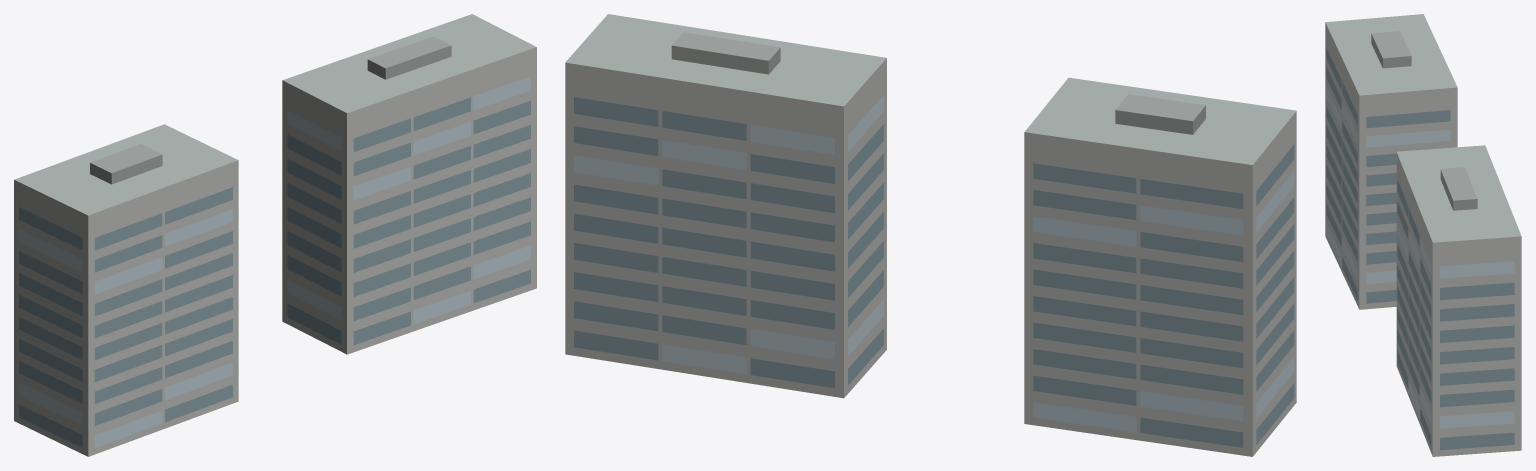
The model's file is apt-a15878601.glb.
3 renders of one model, left to right at view 1: azimuth 30°, elevation 25°; view 2: azimuth 150°, elevation 25°; view 3: azimuth 270°, elevation 25°, orthographic. The views are drawn at different scales.
Visible parts, largest first — view 1: apt-a15878601; view 2: apt-a15878601; view 3: apt-a15878601.
Part boxes in pixels (x1,y1,x2,y2): apt-a15878601: [14, 14, 536, 456]; apt-a15878601: [565, 14, 1296, 456]; apt-a15878601: [1325, 14, 1521, 456].
Bounding box in the file's own units: 63.4 × 29 × 23.
